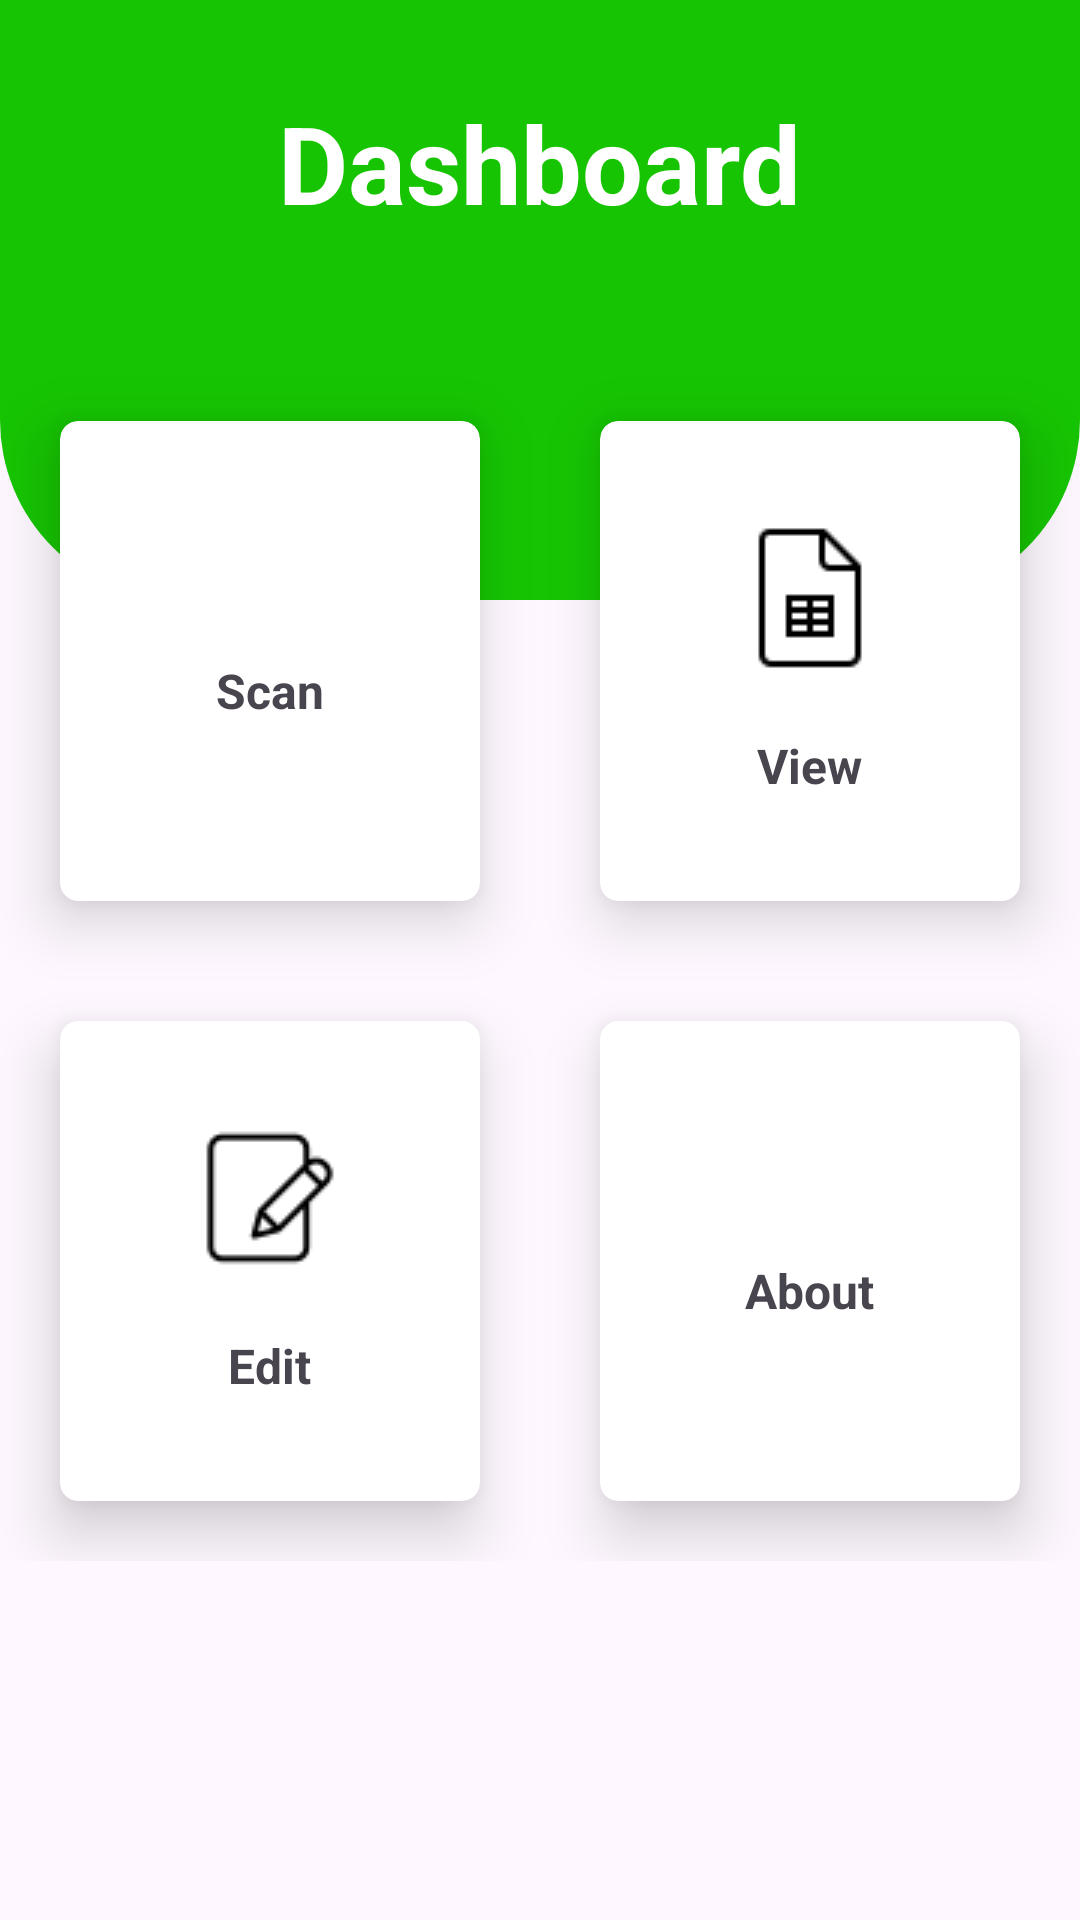

Icons on this 1080*1920 Android screen, each with its box as detection(x1, y1, x2, y2):
sheet: detection(758, 528, 862, 668)
